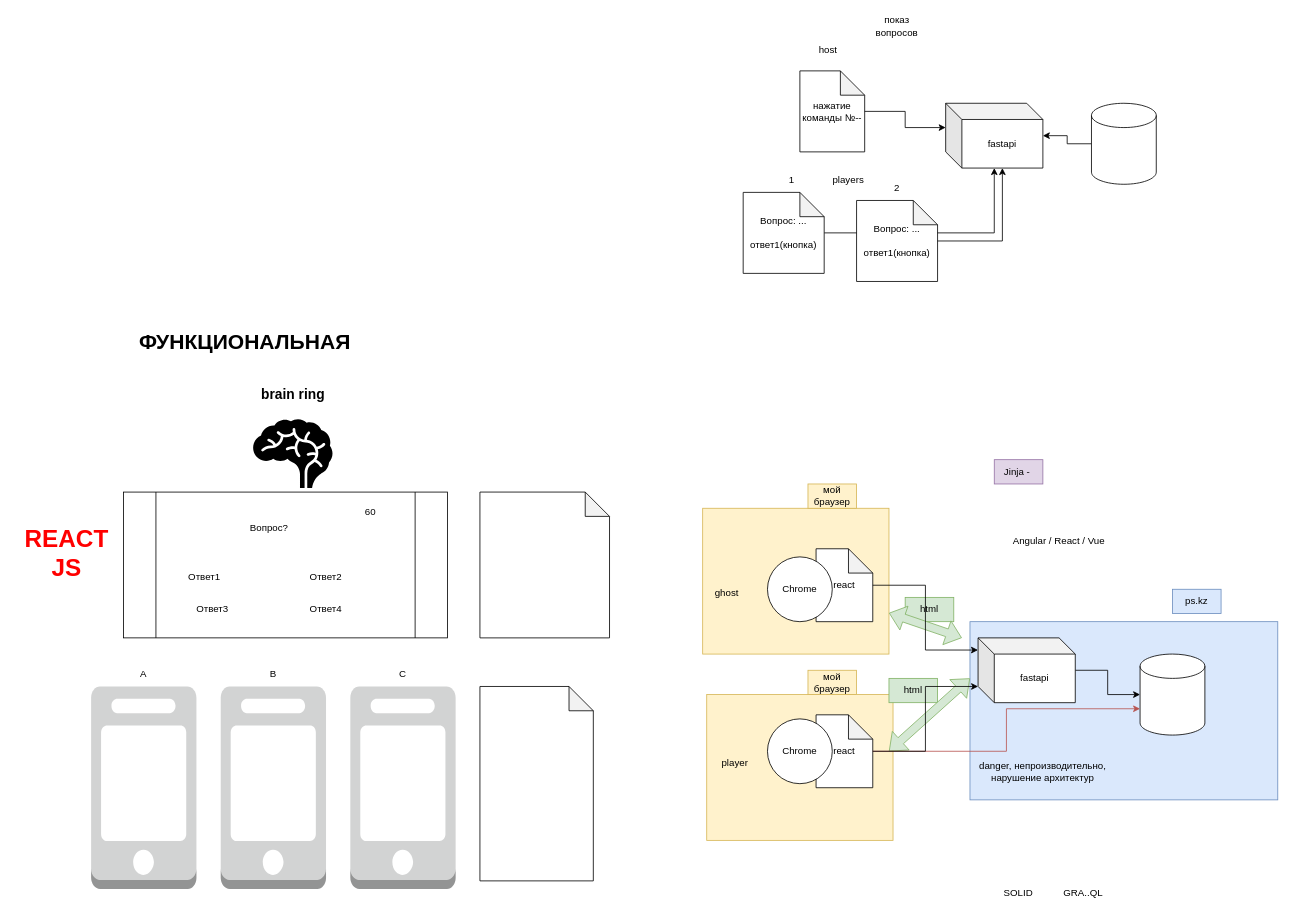
This 1292x919 diagram has some shape labels left out. Each missing label, with the box of its shape:
postgresql: (1139, 653, 1205, 735)
sqlite: (1091, 102, 1156, 184)
ui for player: (479, 686, 593, 881)
ui for зрители: (479, 491, 610, 638)
